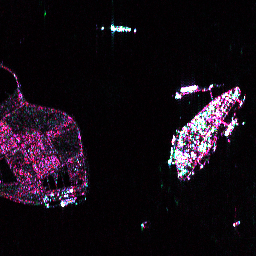ship: (222, 115, 239, 138), (107, 22, 133, 35), (177, 82, 199, 95), (231, 217, 242, 229)
